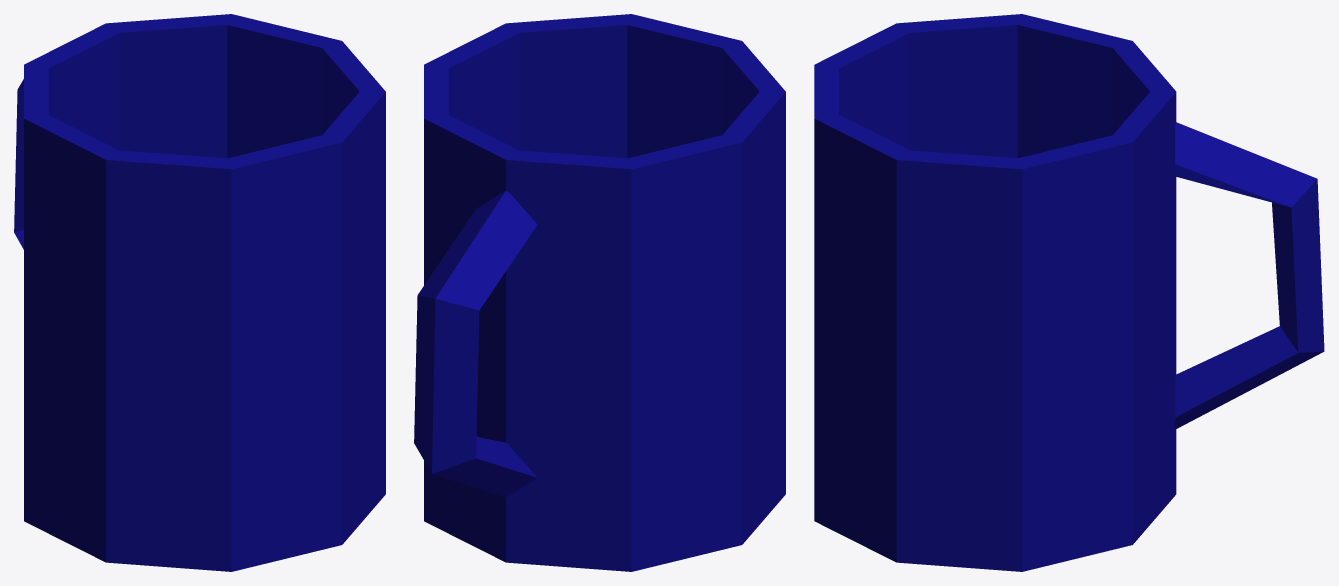
File: кружка.obj
The picture shows the model from 3 angles, left to right: view 1: azimuth 30°, elevation 25°; view 2: azimuth 150°, elevation 25°; view 3: azimuth 270°, elevation 25°; orthographic projection.
Visible parts, largest first — view 1: Cylinder.001, Torus.001; view 2: Cylinder.001, Torus.001; view 3: Cylinder.001, Torus.001.
Boxes of the visible parts, bbox=[...] form: Cylinder.001: bbox=[24, 14, 385, 571]; Torus.001: bbox=[14, 79, 23, 249]; Cylinder.001: bbox=[424, 14, 785, 571]; Torus.001: bbox=[414, 190, 537, 497]; Cylinder.001: bbox=[814, 14, 1176, 571]; Torus.001: bbox=[1175, 122, 1324, 428].
Bounding box in the file's own units: 0.2068 × 0.25 × 0.287.
